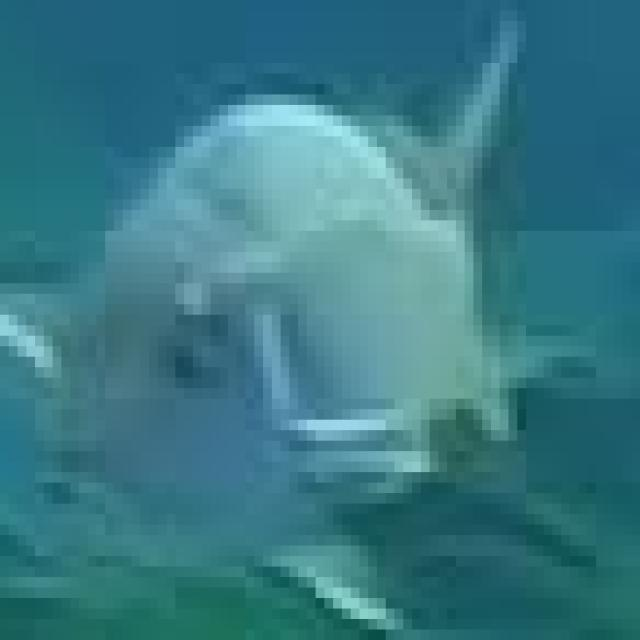fish: (9, 10, 640, 640)
